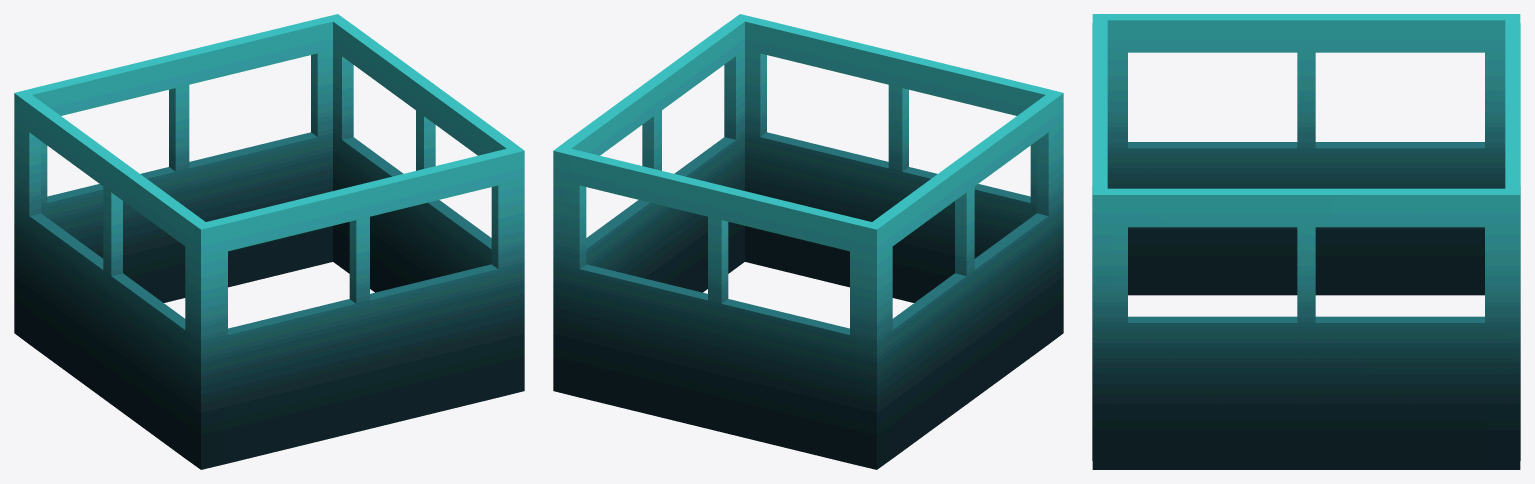
The model's file is SM_ControlRoom.fbx.
The picture shows the model from 3 angles, left to right: view 1: azimuth 30°, elevation 25°; view 2: azimuth 150°, elevation 25°; view 3: azimuth 270°, elevation 25°; orthographic projection. The views are drawn at different scales.
Visible parts, largest first — view 1: SM_ControlRoom; view 2: SM_ControlRoom; view 3: SM_ControlRoom.
Boxes of the visible parts, x1,y1,x2,y2 form: SM_ControlRoom: [14, 14, 524, 469]; SM_ControlRoom: [553, 14, 1063, 469]; SM_ControlRoom: [1092, 14, 1520, 469].
Size of the model in its own units: 242 by 171 by 242.
